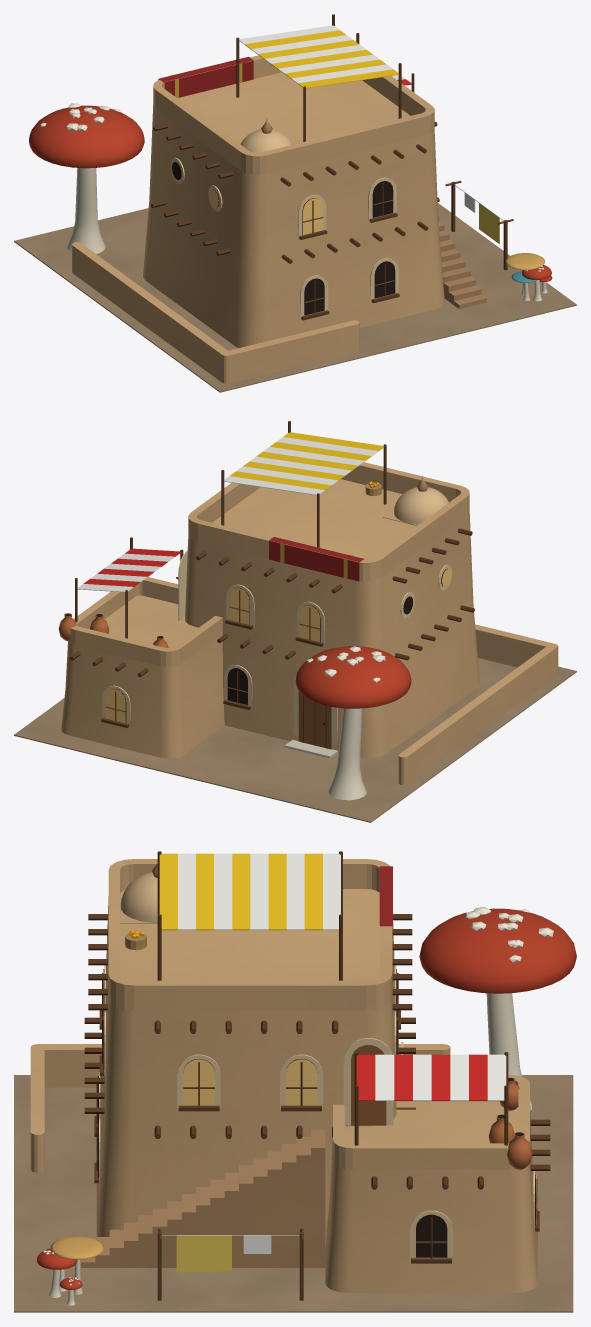
The model's file is hl_dvojdum.glb.
The picture shows the model from 3 angles, top to bottom: view 1: azimuth 30°, elevation 25°; view 2: azimuth 150°, elevation 25°; view 3: azimuth 270°, elevation 25°; orthographic projection. The views are drawn at different scales.
Parts seen in each view (by area): view 1: dum, noc; view 2: dum, noc; view 3: dum, noc.
Part boxes in pixels (x1,y1,x2,y2): dum: [14, 14, 576, 392]; noc: [209, 189, 322, 235]; dum: [14, 421, 576, 822]; noc: [105, 569, 451, 723]; dum: [14, 851, 576, 1312]; noc: [103, 969, 536, 1224].
Bounding box in the file's own units: 14.37 × 8.84 × 14.25.
Materials: 1 (1 with a texture image).
